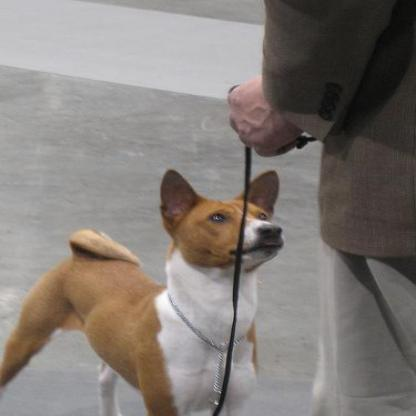basenji: (0, 164, 283, 413)
